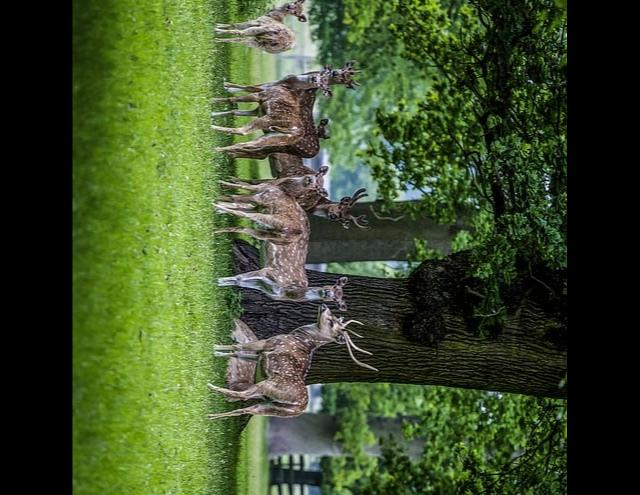Non_Gorille: (108, 0, 565, 495)
